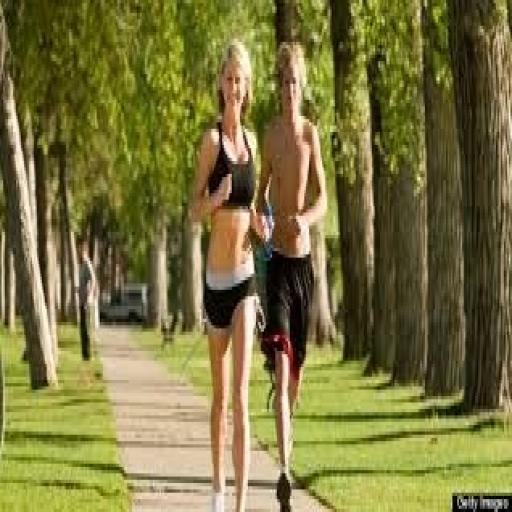running: (187, 35, 270, 509), (251, 38, 332, 508)
